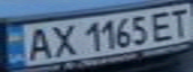1: (78, 18, 103, 52), (97, 17, 118, 51)
5: (130, 12, 154, 46)
6: (115, 15, 136, 48)
A: (18, 25, 57, 62)
E: (148, 9, 178, 43)
T: (166, 6, 193, 37)
X: (45, 21, 78, 57)
